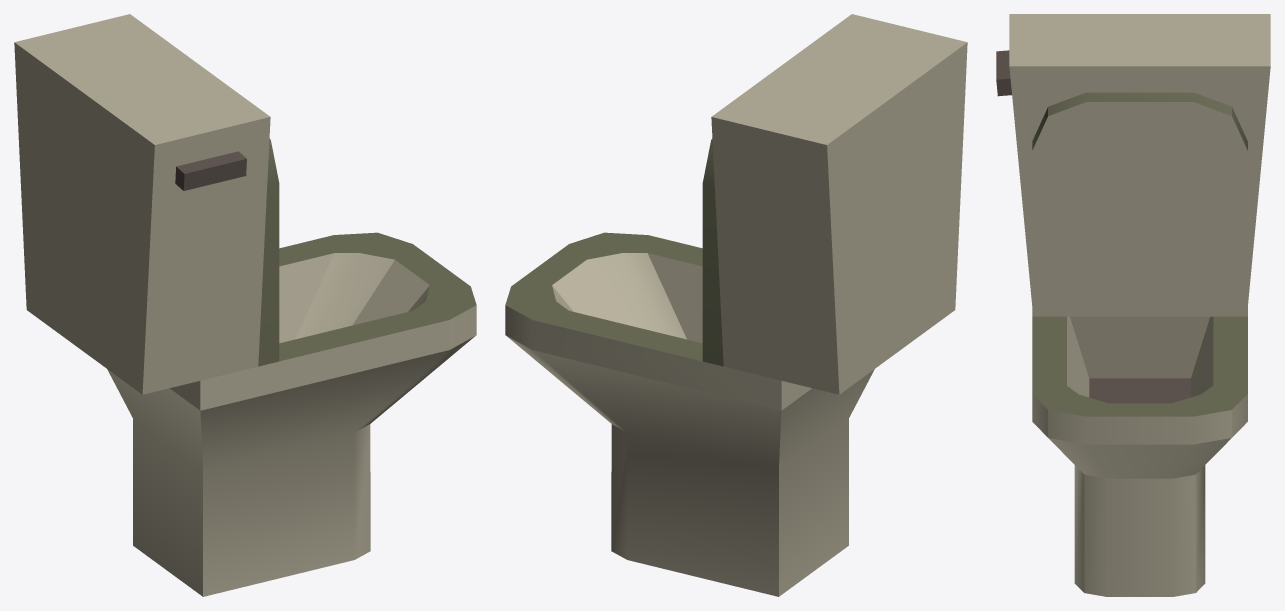
The model's file is flush.fbx.
The picture shows the model from 3 angles, left to right: view 1: azimuth 30°, elevation 25°; view 2: azimuth 150°, elevation 25°; view 3: azimuth 270°, elevation 25°; orthographic projection. The views are drawn at different scales.
Parts seen in each view (by area): view 1: Toilet_Bowl, Toilet_Flap, Handle; view 2: Toilet_Bowl, Toilet_Flap; view 3: Toilet_Bowl, Toilet_Flap, Handle.
Boxes of the visible parts, x1,y1,x2,y2 form: Toilet_Bowl: (14,14,476,596); Toilet_Flap: (258,138,279,366); Handle: (175,151,246,190); Toilet_Bowl: (505,14,967,596); Toilet_Flap: (702,138,723,366); Toilet_Bowl: (1009,14,1270,596); Toilet_Flap: (1032,92,1247,316); Handle: (996,50,1011,96).
Bounding box in the file's own units: 0.0233 × 0.031 × 0.0167.
Materials: 1 (1 with a texture image).
